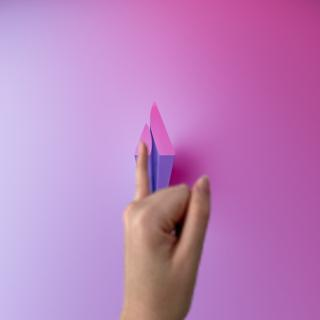Fine: (118, 138, 219, 311)
